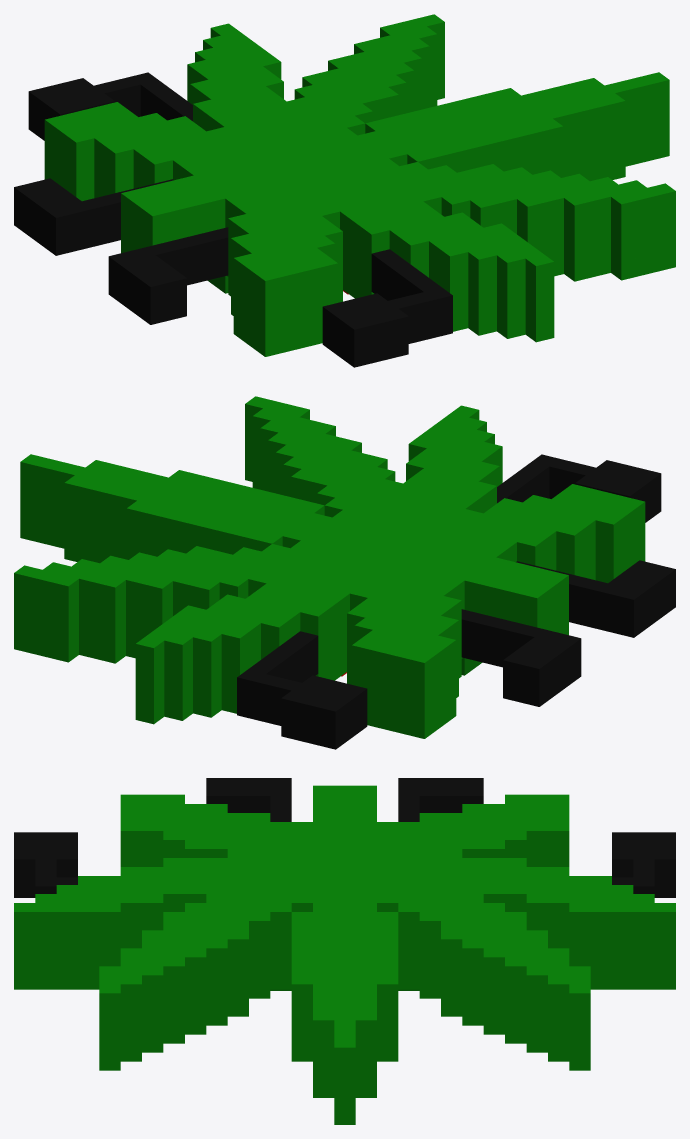
File: Maria2.fbx
3 renders of one model, top to bottom at view 1: azimuth 30°, elevation 25°; view 2: azimuth 150°, elevation 25°; view 3: azimuth 270°, elevation 25°, orthographic.
Parts seen in each view (by area): view 1: Cubo.559; view 2: Cubo.559; view 3: Cubo.559.
Boxes of the visible parts, left/top/right/bottom form: Cubo.559: left=14, top=14, right=675, bottom=367; Cubo.559: left=14, top=396, right=675, bottom=749; Cubo.559: left=14, top=778, right=675, bottom=1124.
Size of the model in its own units: 3100 by 500 by 3200.
